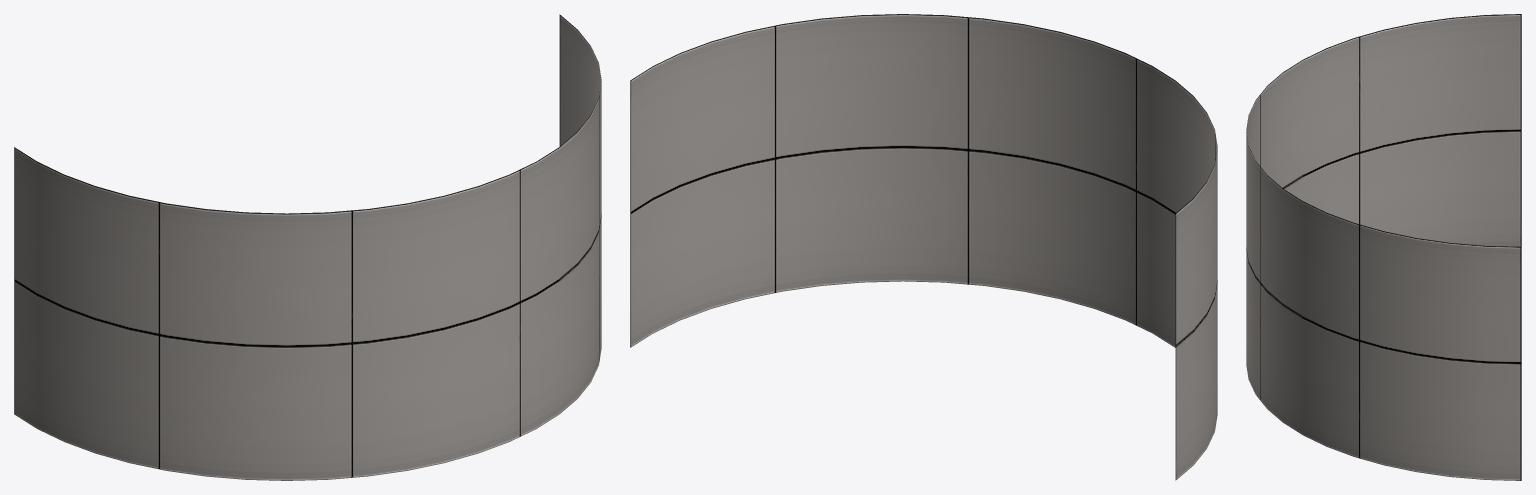
The model's file is CylinderWall_1_V1.fbx.
The picture shows the model from 3 angles, left to right: view 1: azimuth 30°, elevation 25°; view 2: azimuth 150°, elevation 25°; view 3: azimuth 270°, elevation 25°; orthographic projection. The views are drawn at different scales.
Visible parts, largest first — view 1: CylinderWall_1; view 2: CylinderWall_1; view 3: CylinderWall_1.
Part boxes in pixels (box(x1,y1,x2,y2)): CylinderWall_1: box(14, 14, 601, 480); CylinderWall_1: box(630, 14, 1217, 480); CylinderWall_1: box(1246, 14, 1521, 480).
Bounding box in the file's own units: 640 × 300 × 320.
